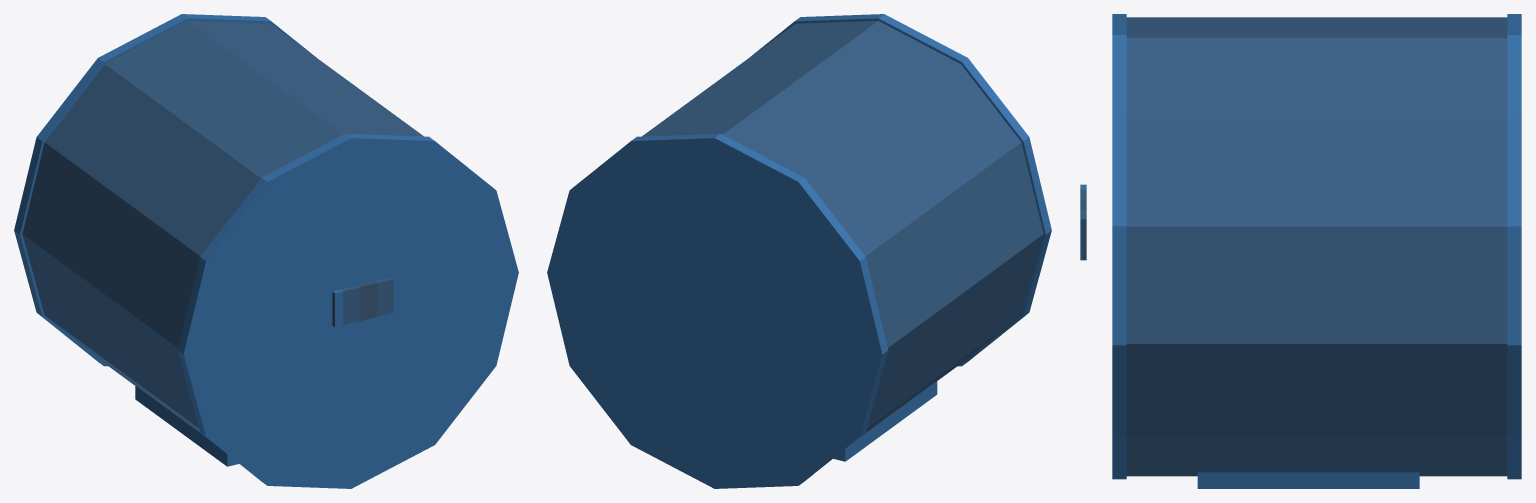
Rendered from transit_pod.glb.
The picture shows the model from 3 angles, left to right: view 1: azimuth 30°, elevation 25°; view 2: azimuth 150°, elevation 25°; view 3: azimuth 270°, elevation 25°; orthographic projection. The views are drawn at different scales.
Parts seen in each view (by area): view 1: Pod_End_-0, Pod_Glass_Capsule, Pod_End_0, Occupancy_Light_pod, Pod_Seat; view 2: Pod_End_0, Pod_Glass_Capsule, Pod_End_-0, Pod_Seat; view 3: Pod_Glass_Capsule, Pod_End_0, Pod_End_-0, Pod_Seat, Occupancy_Light_pod.
Part boxes in pixels (bbox=[...]): Pod_End_-0: bbox=[177, 133, 518, 488]; Pod_Glass_Capsule: bbox=[22, 21, 423, 437]; Pod_End_0: bbox=[14, 14, 315, 366]; Occupancy_Light_pod: bbox=[332, 277, 393, 327]; Pod_Seat: bbox=[135, 386, 238, 466]; Pod_End_0: bbox=[547, 133, 888, 488]; Pod_Glass_Capsule: bbox=[642, 21, 1043, 437]; Pod_End_-0: bbox=[750, 14, 1051, 366]; Pod_Seat: bbox=[833, 381, 937, 461]; Pod_Glass_Capsule: bbox=[1126, 17, 1507, 476]; Pod_End_0: bbox=[1507, 14, 1521, 479]; Pod_End_-0: bbox=[1112, 14, 1126, 479]; Pod_Seat: bbox=[1197, 472, 1419, 488]; Occupancy_Light_pod: bbox=[1080, 184, 1086, 260].
Size of what is drawn, in the model's own units: 1.14 by 1.14 by 1.07.
Materials: 2 (2 with a texture image).
